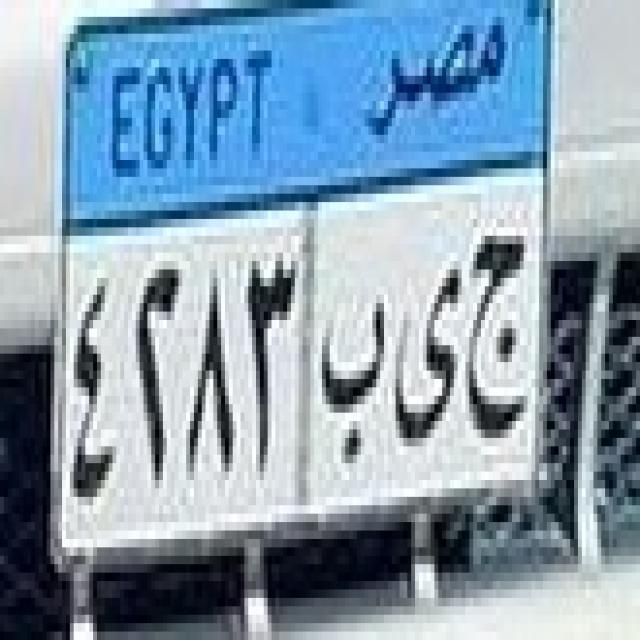2: (123, 250, 184, 497)
3: (238, 248, 294, 490)
4: (69, 265, 126, 509)
8: (186, 264, 242, 491)
Yeeh: (396, 252, 464, 454)
baa: (316, 268, 392, 484)
geem: (462, 234, 534, 446)
